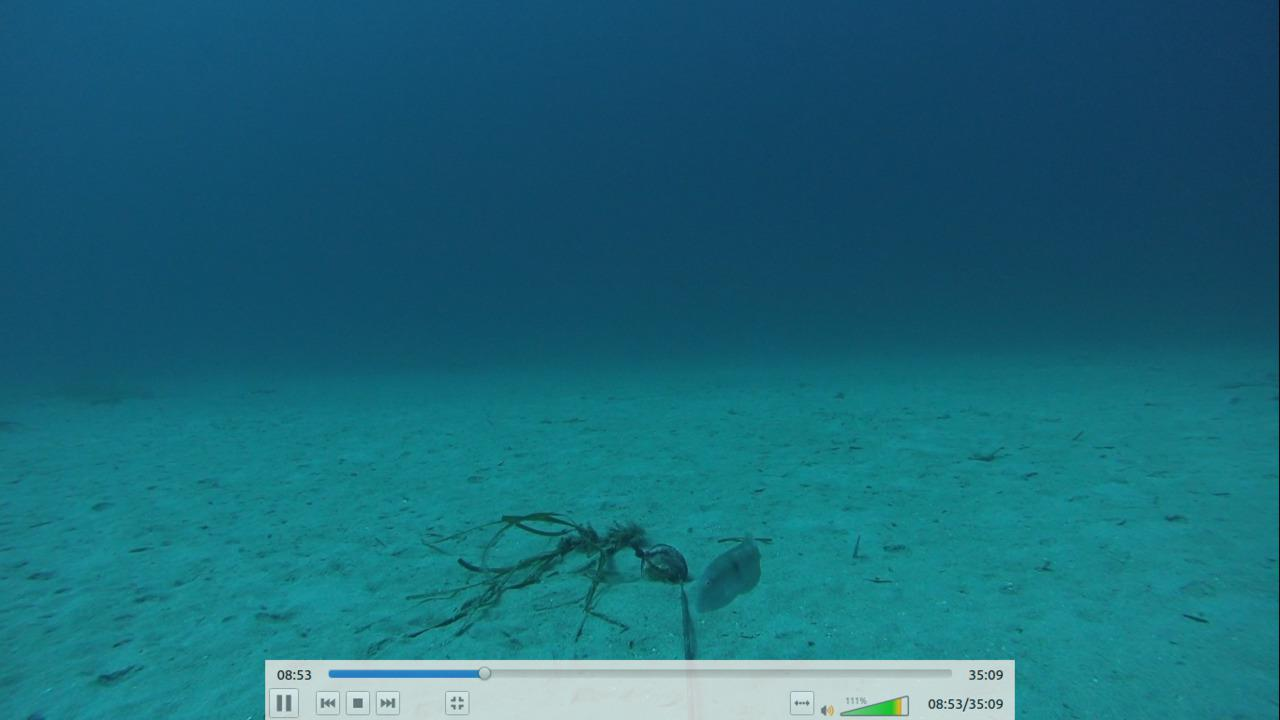raor: (691, 530, 764, 616)
